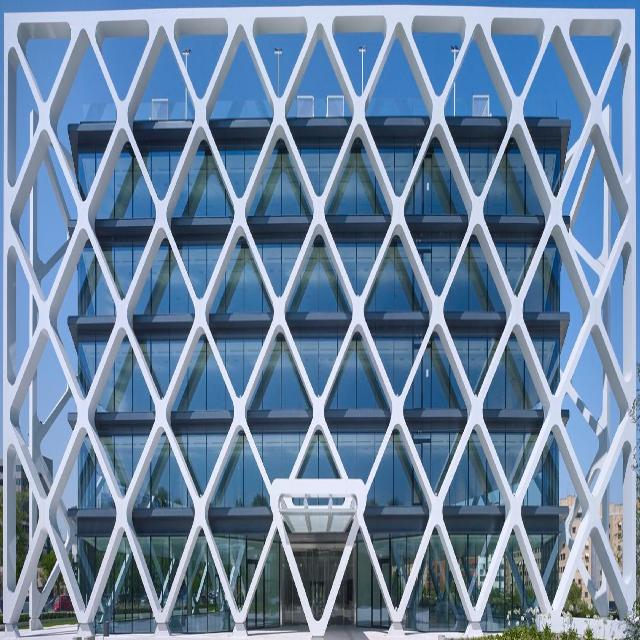door: (280, 536, 358, 623), (246, 558, 266, 629), (371, 559, 390, 629)
railing: (80, 99, 556, 117)
window: (68, 95, 571, 628)
